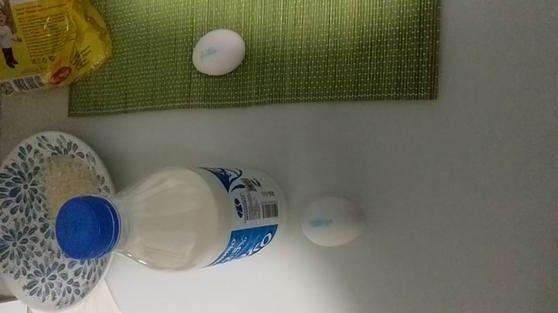egg: (291, 188, 386, 256), (179, 20, 257, 80)
milk: (50, 164, 292, 271)
rice: (35, 150, 116, 191)
